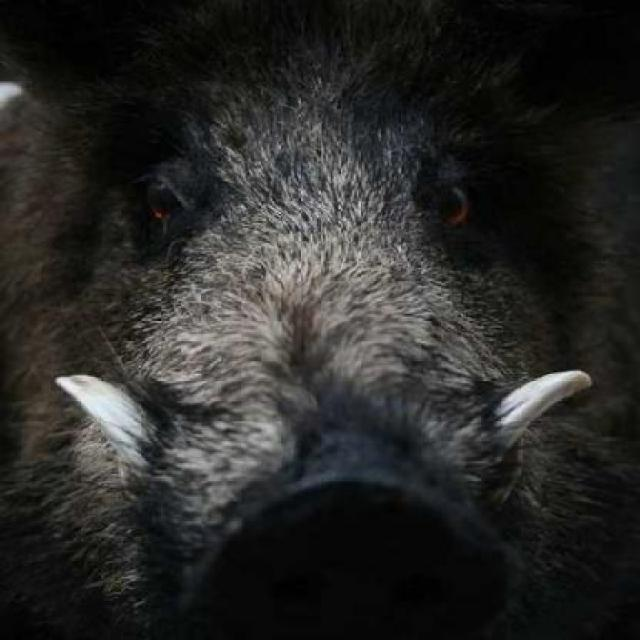Boar: (55, 52, 640, 638)
